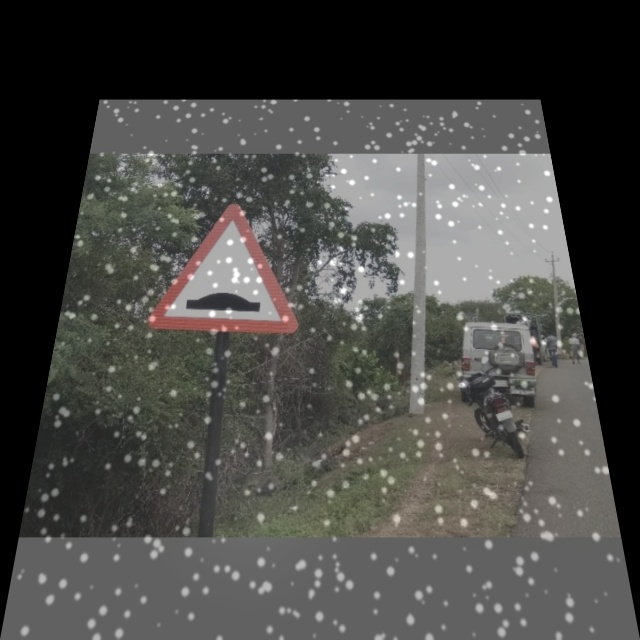Dangerous_Dip: (150, 202, 298, 335)
